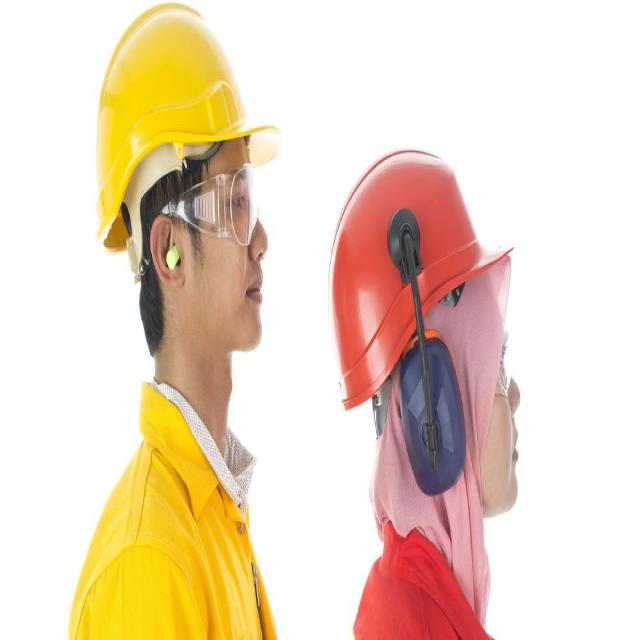glasses: (173, 159, 259, 247)
